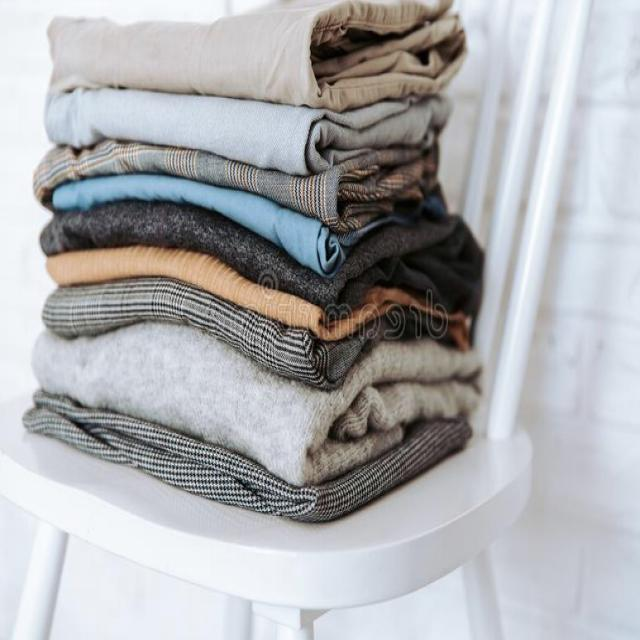clothes: (0, 0, 491, 554)
